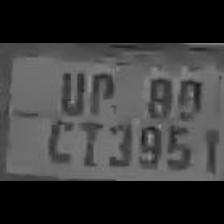1: (196, 122, 222, 174)
3: (104, 116, 132, 170)
5: (163, 120, 195, 172)
8: (140, 70, 172, 119)
9: (134, 121, 160, 169)
C: (42, 114, 76, 166)
P: (84, 66, 118, 116)
T: (74, 116, 104, 168)
U: (55, 66, 87, 116)
